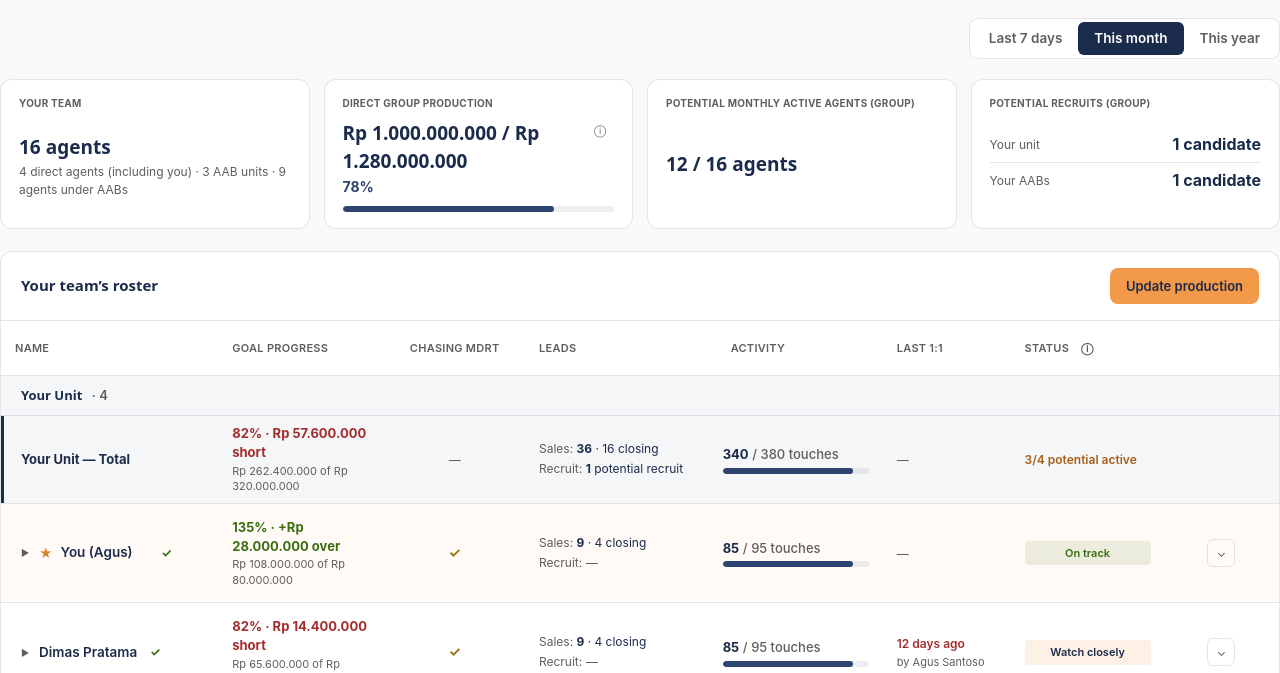
Test case: the Unit Dashboard (P15-T2) › the expanded detail (AC-5) › P15-T2 AC-5 reads no ratios until a row is opened, and once for a row opened twice
The width and height of the screenshot is (1280, 673).
Click the button named "View details for Dimas Pratama" at (1222, 652), box 1208,638 -> 1236,666
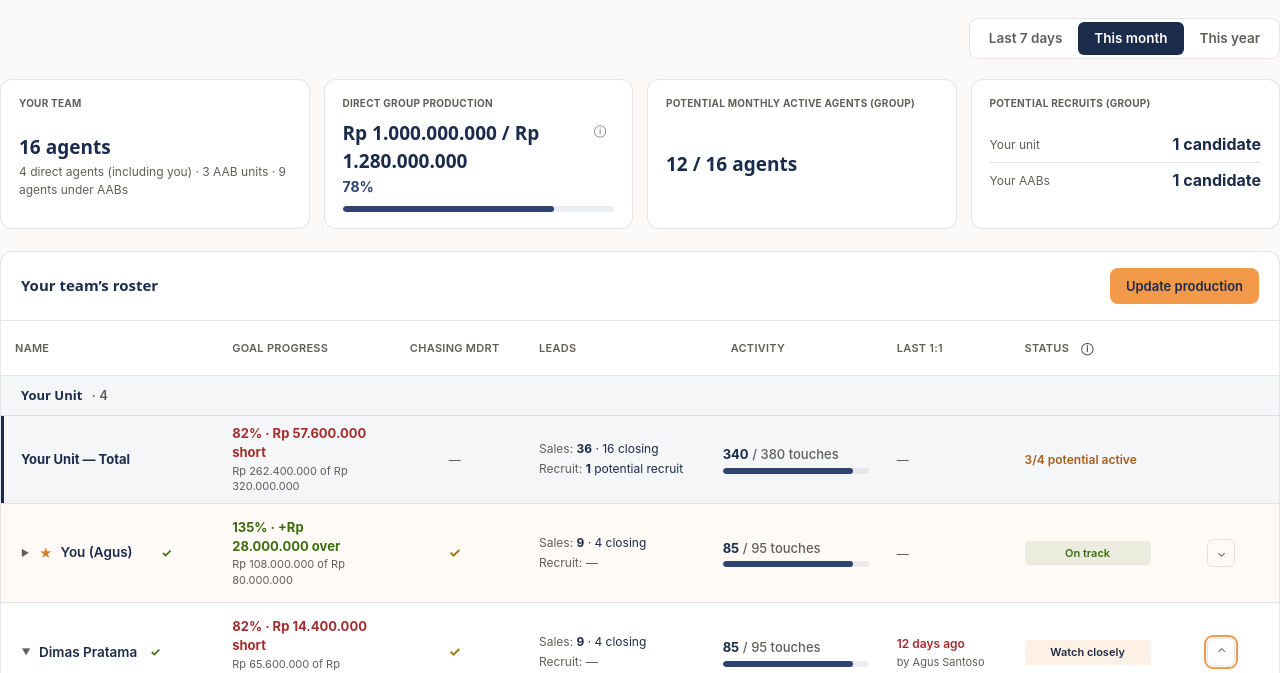
Click the button named "View details for Dimas Pratama" at (1222, 652), box 1208,638 -> 1236,666
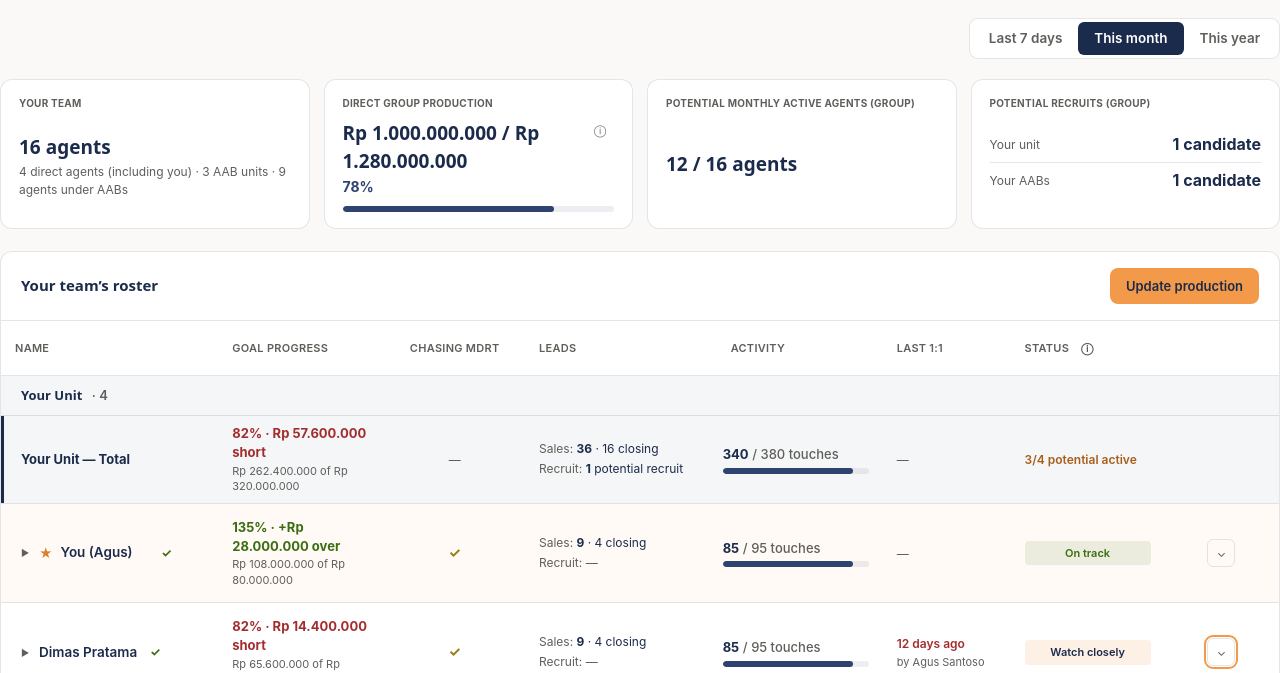
Click the button named "View details for Dimas Pratama" at (1222, 652), box 1208,638 -> 1236,666
(page scrolled)
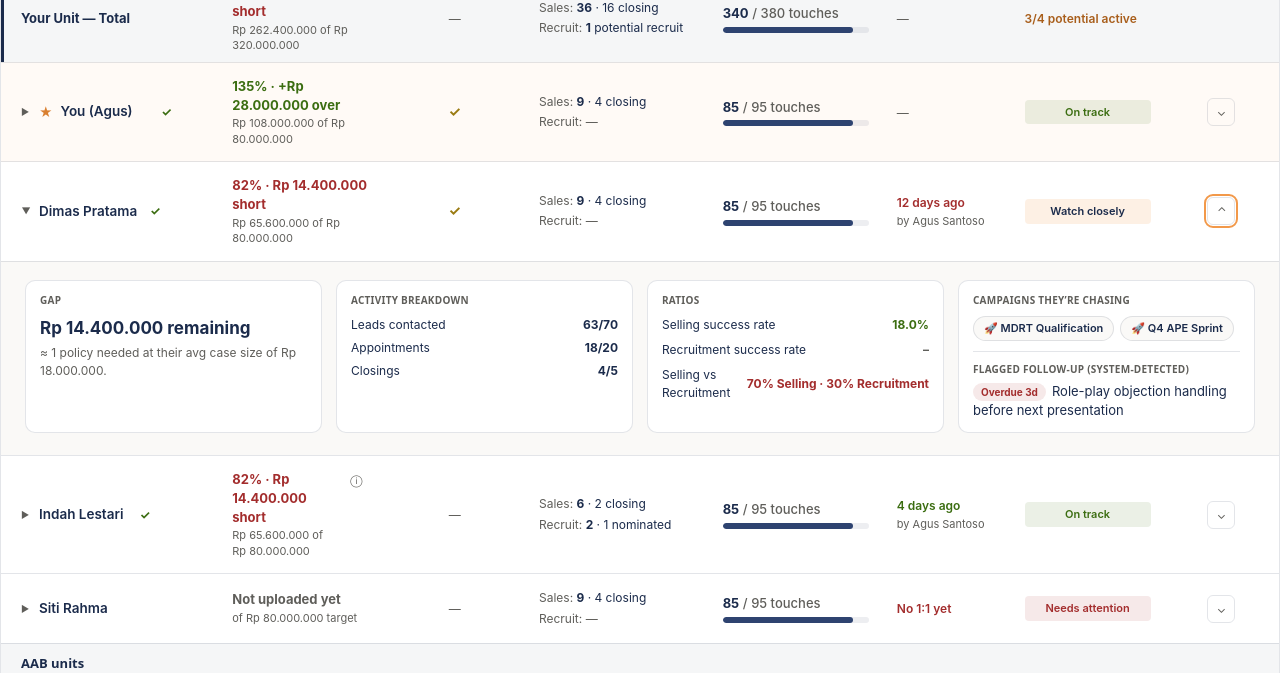
Result: the text "Selling success rate" is shown at 662,316 -> 776,333
